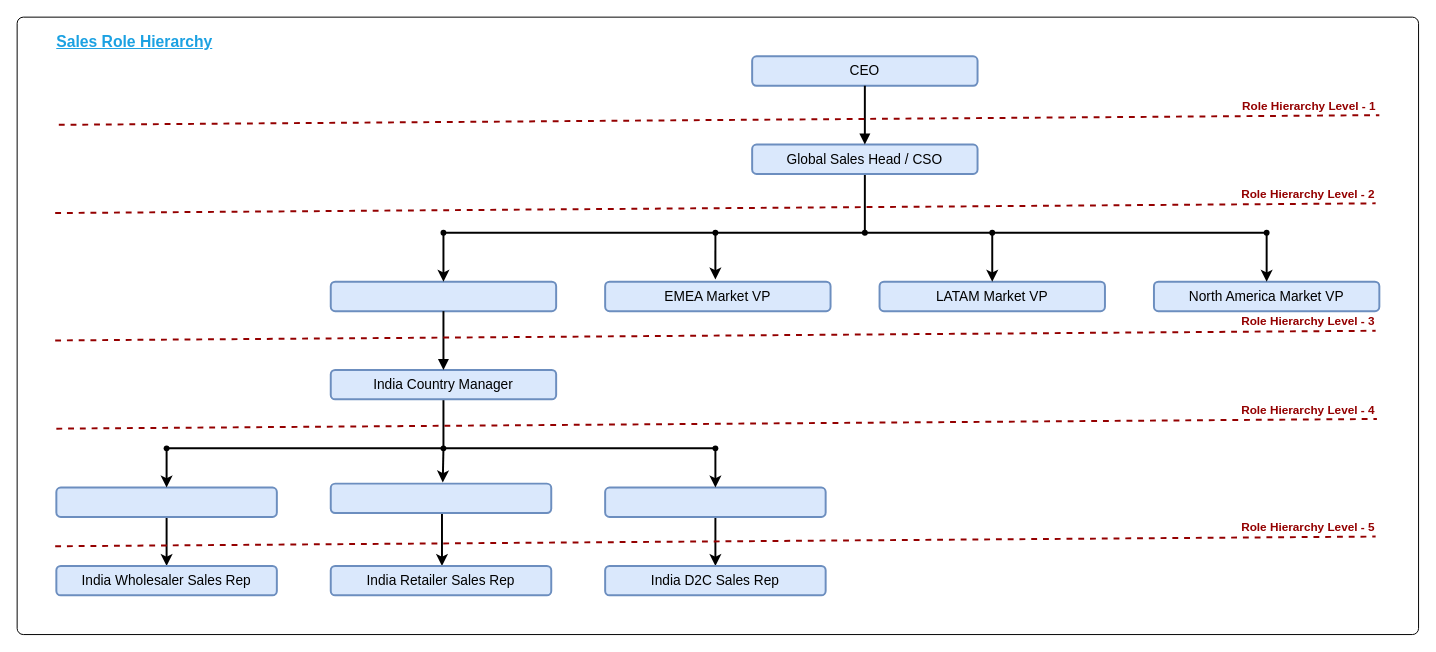
This 1436x652 diagram has some shape labels left out. The centre of each missing label's shape, as x and y in pixels:
APAC Market VP: point (443, 296)
India D2C Head: point (715, 501)
India Retailer Head: point (440, 498)
India Wholesaler Head: point (166, 501)
